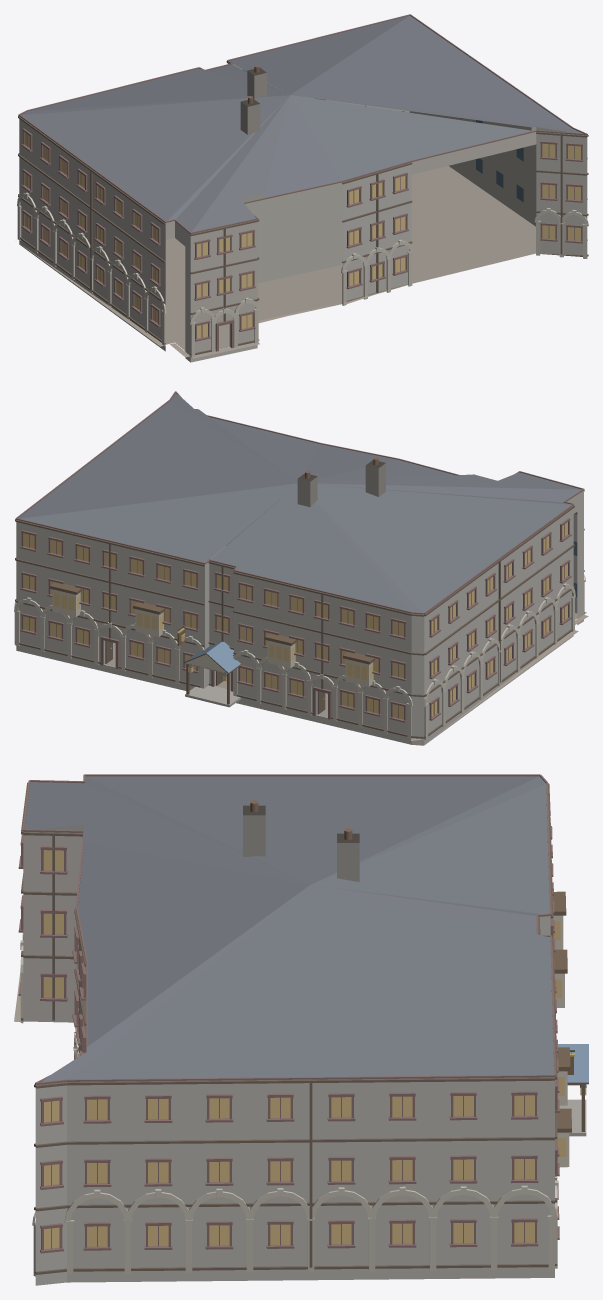
3 renders of one model, top to bottom at view 1: azimuth 30°, elevation 25°; view 2: azimuth 150°, elevation 25°; view 3: azimuth 270°, elevation 25°, orthographic. The views are drawn at different scales.
Parts seen in each view (by area): view 1: C03_visible; view 2: C03_visible; view 3: C03_visible.
Boxes of the visible parts, left/top/right/bottom form: C03_visible: left=17, top=14, right=588, bottom=362; C03_visible: left=14, top=391, right=588, bottom=745; C03_visible: left=14, top=774, right=588, bottom=1285.
Size of the model in its own units: 39.61 by 16.54 by 30.65.
